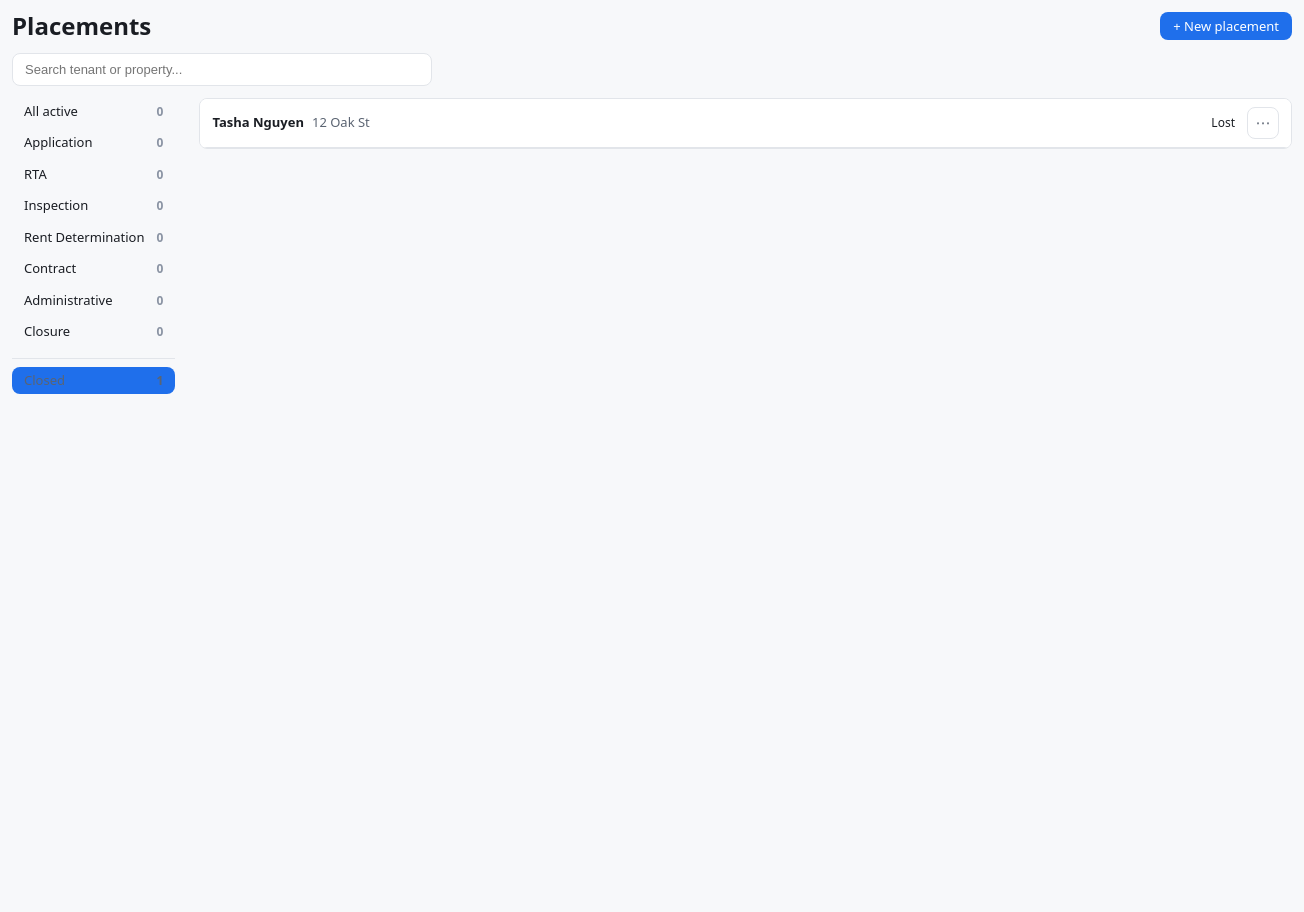
Scenario: PlacementsPage - contact-type refusals (caseworker integrity) › a Lost placement moved back to an open stage from the Closed view, refused as contact_not_tenant, shows the contact-type sentence and stays Lost
Click the button named "Actions for Tasha Nguyen".
click(1263, 123)  # box [1247, 107, 1279, 139]
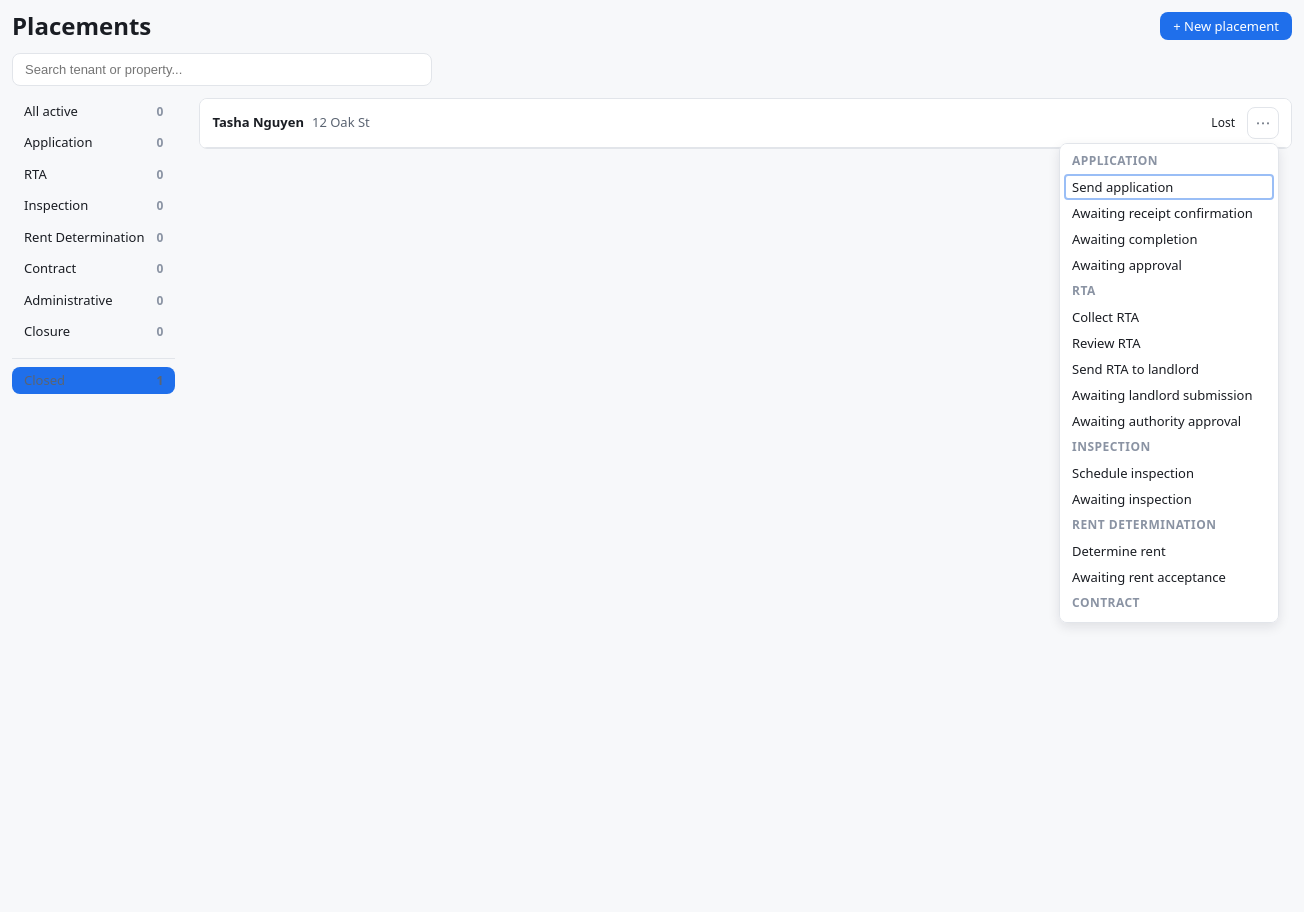
Click the menu item "Collect RTA".
click(1169, 317)  # box [1064, 304, 1274, 330]
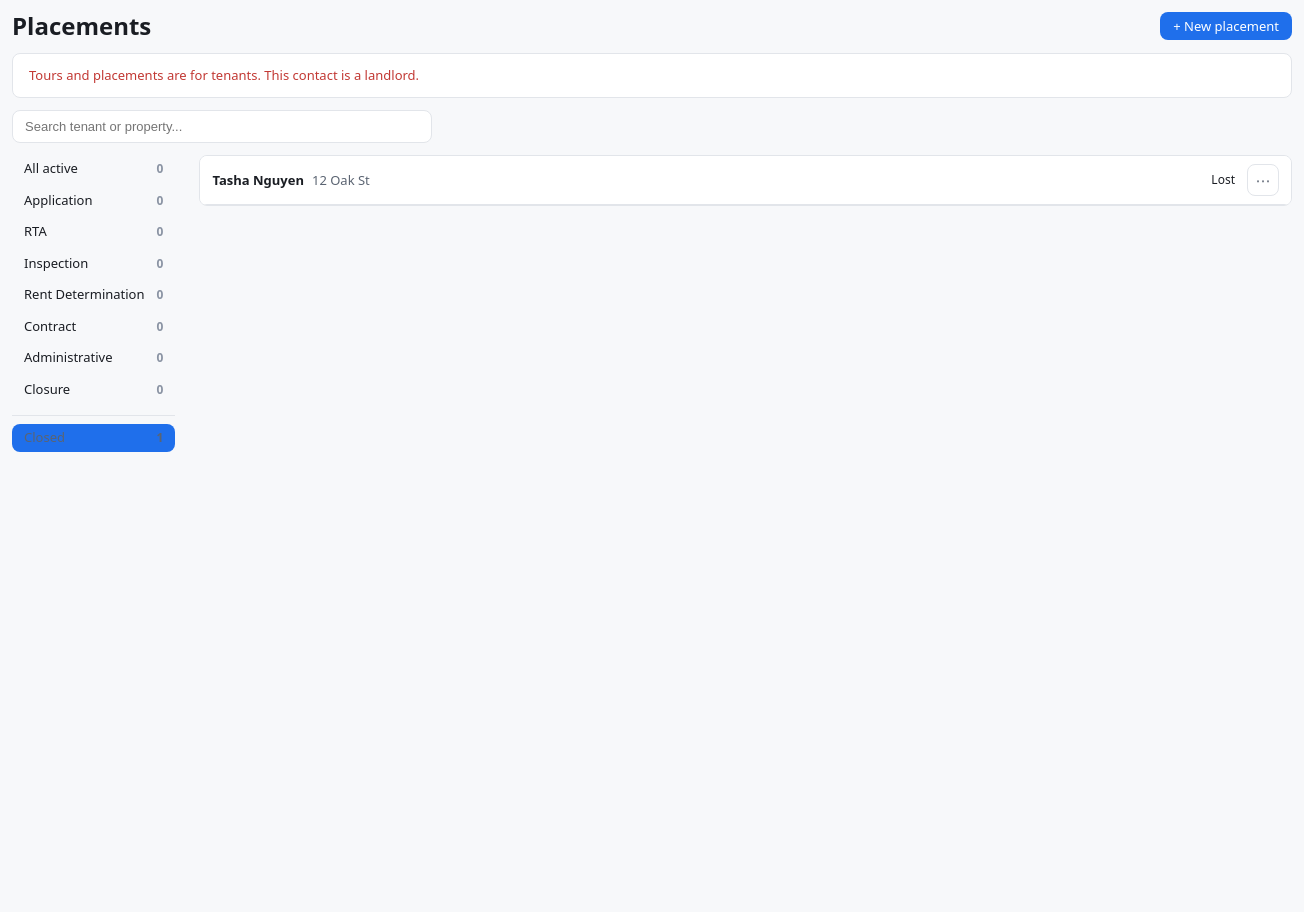
Expected: the link named "Tasha Nguyen - Lost" is shown, [200, 156, 1291, 204]
Expected: the message reads "Tours and placements are for tenants. This contact is a landlord.", [29, 66, 419, 84]
